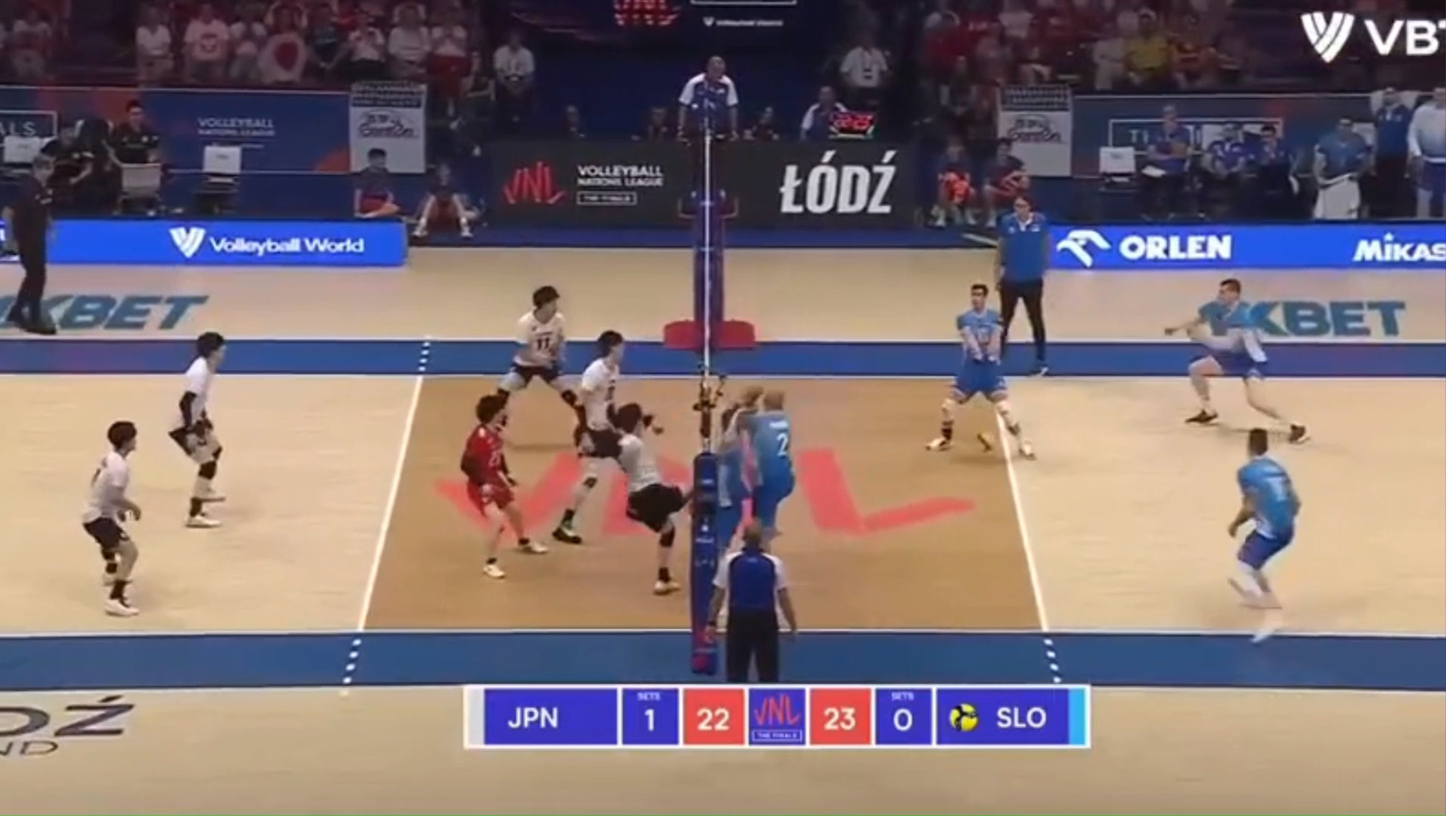ball: (975, 432, 995, 453)
player: (1164, 277, 1307, 443), (926, 283, 1034, 459), (1228, 428, 1300, 641), (740, 391, 795, 540), (715, 403, 750, 549)
player 1: (459, 394, 546, 579), (611, 403, 691, 595), (553, 331, 622, 542), (496, 286, 582, 432), (82, 420, 141, 616), (168, 331, 225, 528)
referee: (706, 518, 797, 682), (0, 154, 55, 335), (677, 56, 738, 218), (995, 196, 1048, 374)
